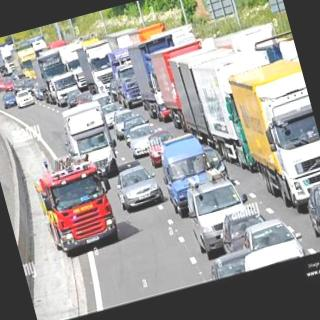Fire_truck: (30, 141, 139, 275)
